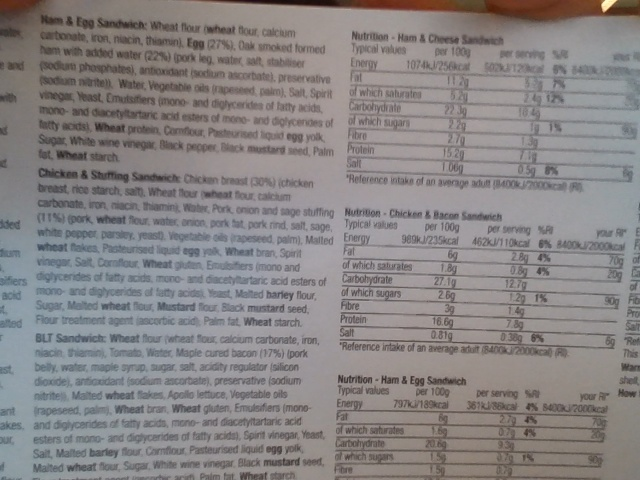wheat: (92, 118, 128, 139), (107, 329, 141, 344)
